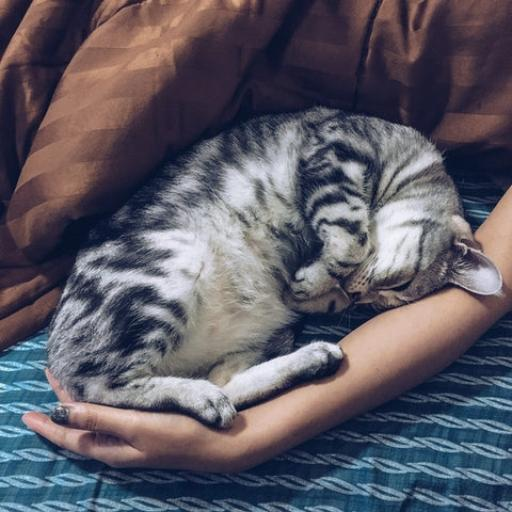cat_sleeping: (49, 107, 501, 427)
